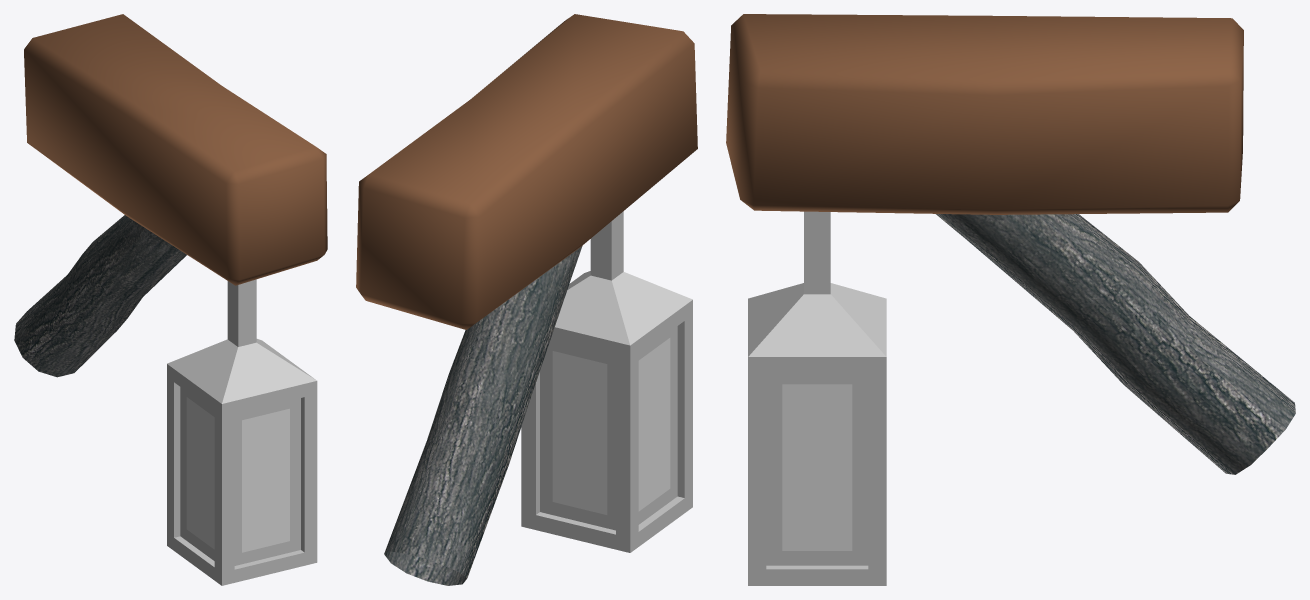
File: lamp.fbx
The picture shows the model from 3 angles, left to right: view 1: azimuth 30°, elevation 25°; view 2: azimuth 150°, elevation 25°; view 3: azimuth 270°, elevation 25°; orthographic projection. The views are drawn at different scales.
Visible parts, largest first — view 1: lamp.001; view 2: lamp.001; view 3: lamp.001.
Boxes of the visible parts, left/top/right/bottom form: lamp.001: left=14, top=14, right=327, bottom=585; lamp.001: left=356, top=14, right=697, bottom=585; lamp.001: left=726, top=14, right=1295, bottom=585.
Bounding box in the file's own units: 27.35 × 93.51 × 92.91.
